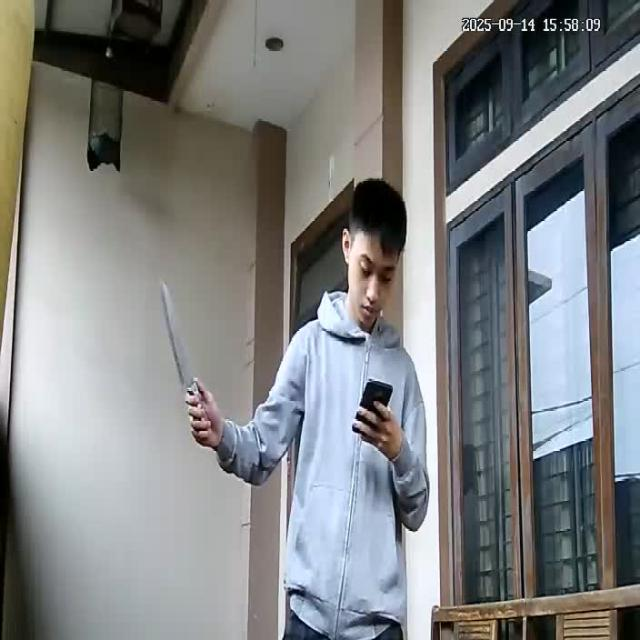senjata_tajam: (159, 278, 199, 397)
